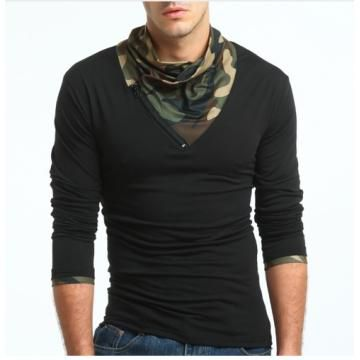T-Shirt: (49, 26, 317, 347)
